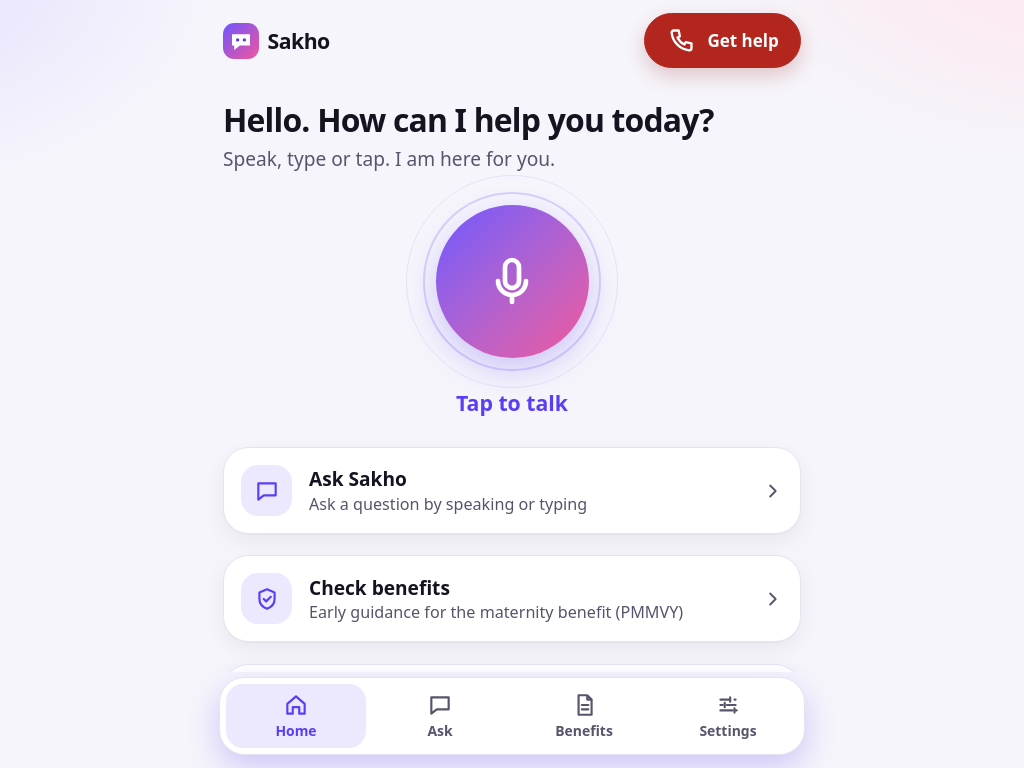
Test: emergency help › live mode shows real dialer links for the verified numbers and no demo banner
What coordinates should you click on to do the following:
click the button "Get help"
I would click on:
 (723, 41)
Its box is [644, 13, 801, 68].
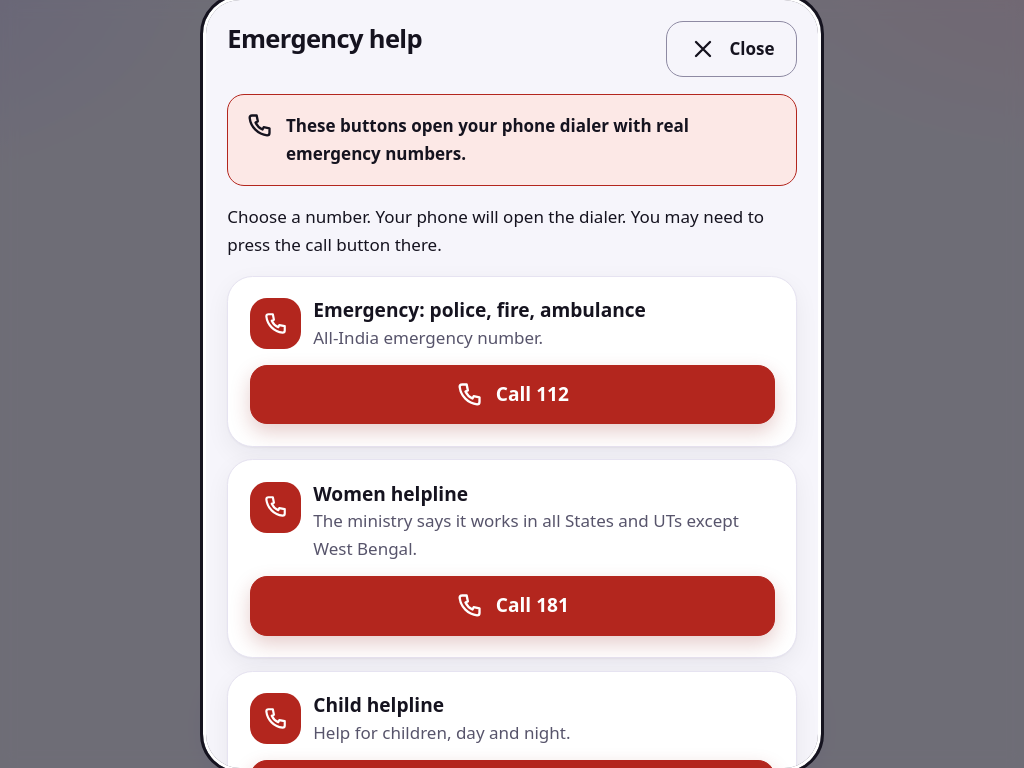
Now the link "Call 112" is shown, box [250, 365, 774, 424]
